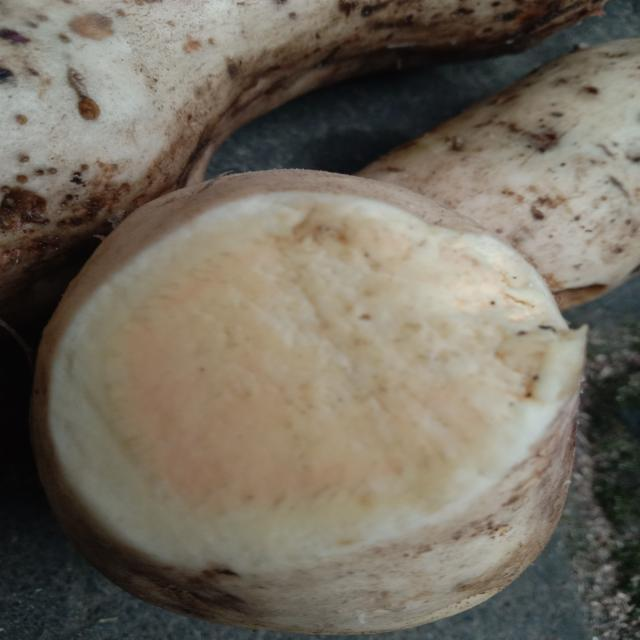Healthy Sweet Potato: (48, 192, 585, 569)
